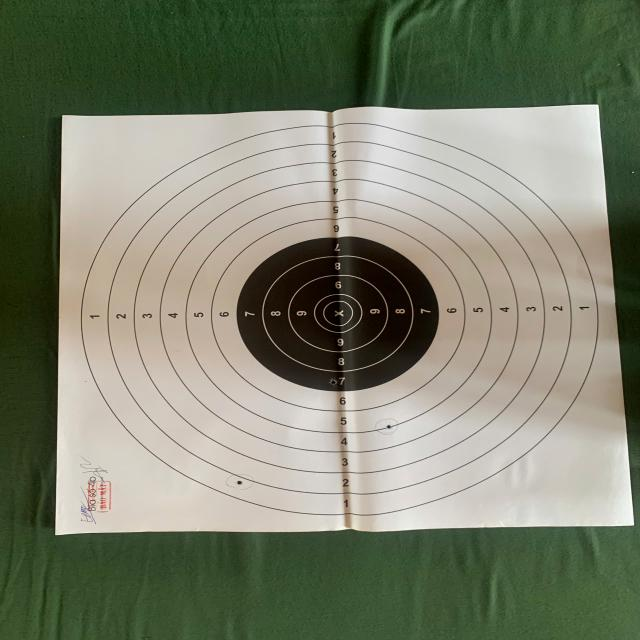bullet: (385, 424, 393, 429), (237, 480, 242, 485), (330, 380, 336, 384)
target: (56, 106, 632, 533)
